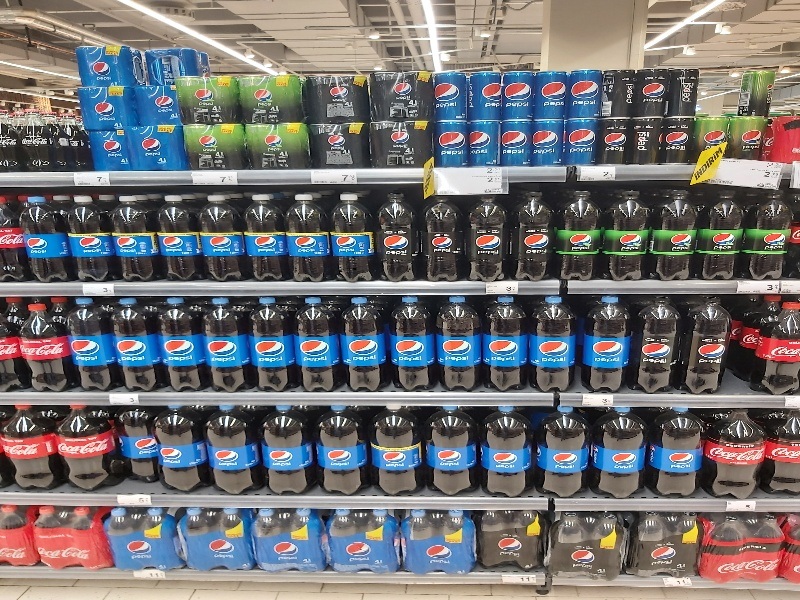urun1: (703, 405, 764, 501), (52, 401, 114, 495), (698, 513, 788, 577), (105, 502, 181, 572), (399, 505, 479, 569), (34, 504, 110, 570), (154, 401, 207, 495), (260, 403, 313, 497), (423, 402, 476, 496), (481, 404, 534, 498), (537, 405, 590, 499), (595, 403, 648, 497), (150, 190, 201, 282), (240, 191, 291, 283), (371, 186, 422, 278), (416, 189, 467, 281), (603, 185, 654, 277), (745, 187, 796, 279), (18, 299, 69, 391), (108, 299, 159, 391), (147, 293, 198, 385), (197, 294, 248, 386), (240, 294, 291, 386), (290, 299, 341, 391), (476, 293, 527, 385), (526, 292, 577, 384), (629, 295, 680, 387), (474, 508, 547, 570), (1, 401, 49, 495), (87, 127, 185, 172), (110, 399, 156, 489), (236, 68, 305, 124), (367, 64, 438, 118), (762, 297, 800, 396), (72, 84, 141, 131), (307, 120, 373, 167), (370, 117, 436, 164), (182, 124, 248, 171), (146, 44, 212, 81), (1, 506, 38, 568), (734, 65, 778, 115), (566, 64, 604, 116), (431, 66, 470, 116), (463, 66, 502, 116), (592, 123, 630, 167), (502, 65, 535, 115), (534, 66, 567, 116), (661, 122, 696, 166), (470, 121, 501, 170), (631, 123, 663, 164), (1, 104, 16, 172)
urun2: (544, 509, 631, 574), (177, 508, 257, 572), (250, 506, 330, 570), (321, 507, 401, 571), (208, 401, 261, 495), (312, 400, 365, 494), (367, 403, 420, 497), (649, 406, 702, 500), (19, 193, 70, 285), (65, 193, 116, 285), (104, 190, 155, 282), (194, 191, 245, 283), (275, 190, 326, 282), (320, 188, 371, 280), (463, 189, 514, 281), (508, 188, 559, 280), (551, 185, 602, 277), (652, 191, 703, 283), (699, 191, 750, 283), (63, 295, 114, 387), (336, 295, 387, 387), (380, 293, 431, 385), (428, 295, 479, 387), (585, 295, 636, 387), (680, 296, 731, 388), (633, 515, 705, 575), (174, 71, 243, 127), (305, 66, 374, 122), (764, 406, 800, 499), (76, 37, 143, 85), (723, 115, 770, 166), (18, 106, 50, 172), (436, 118, 471, 172), (695, 111, 730, 165), (494, 122, 532, 166), (529, 121, 567, 165), (563, 124, 601, 168)
